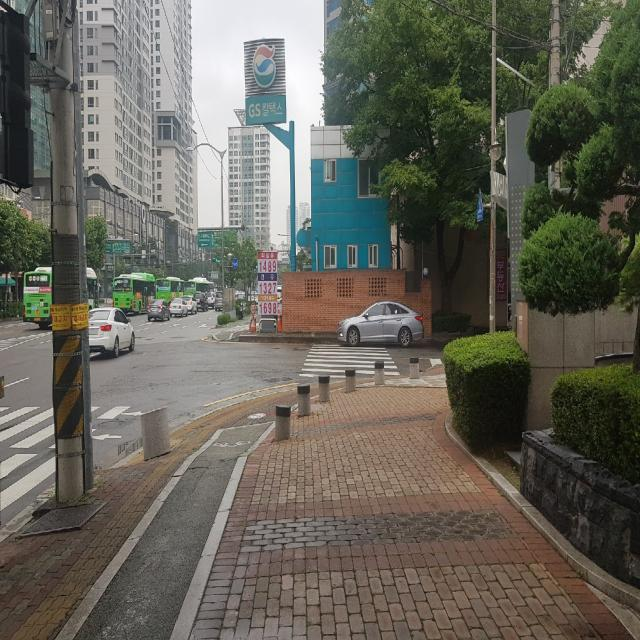횡단보도: (0, 381, 146, 509), (299, 344, 400, 378)
